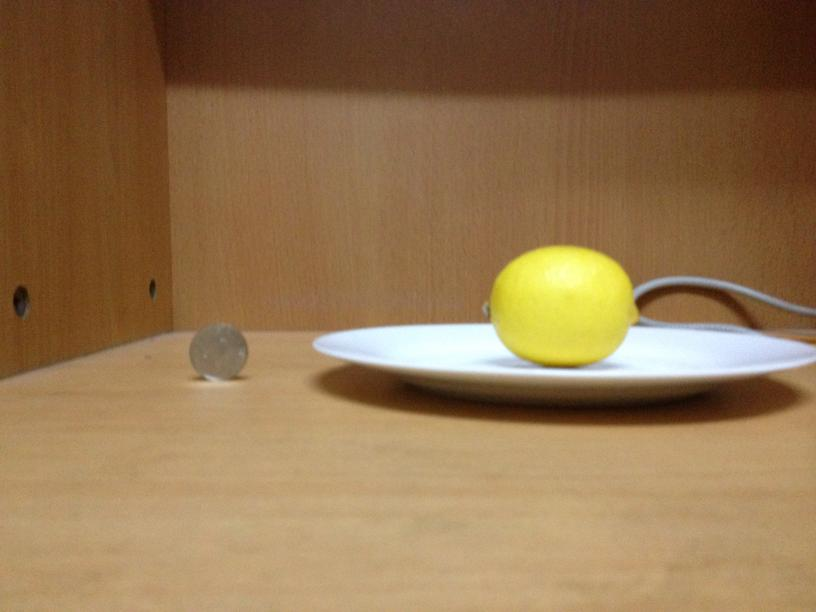coin: (188, 325, 247, 381)
lemon: (487, 246, 635, 365)
